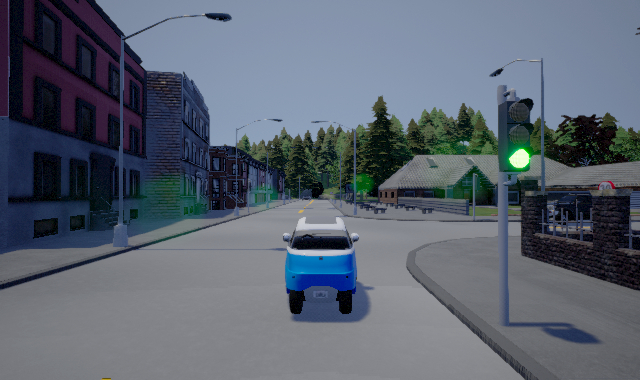traffic_light: (498, 96, 535, 172)
traffic_sign: (598, 180, 616, 191)
vehicle: (283, 215, 358, 314)
